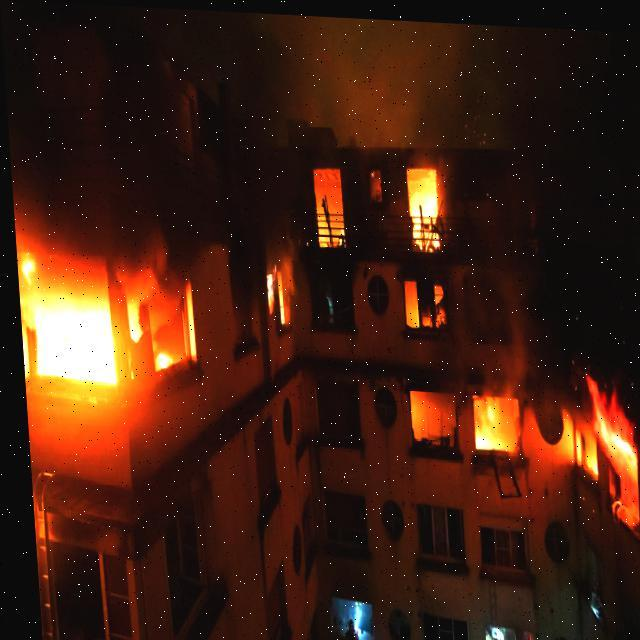Fire: (391, 135, 639, 530), (22, 244, 199, 393)
